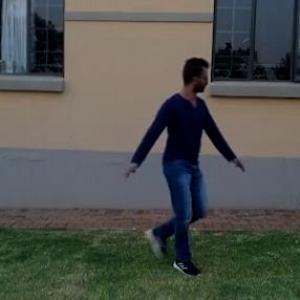land: (121, 70, 250, 239)
